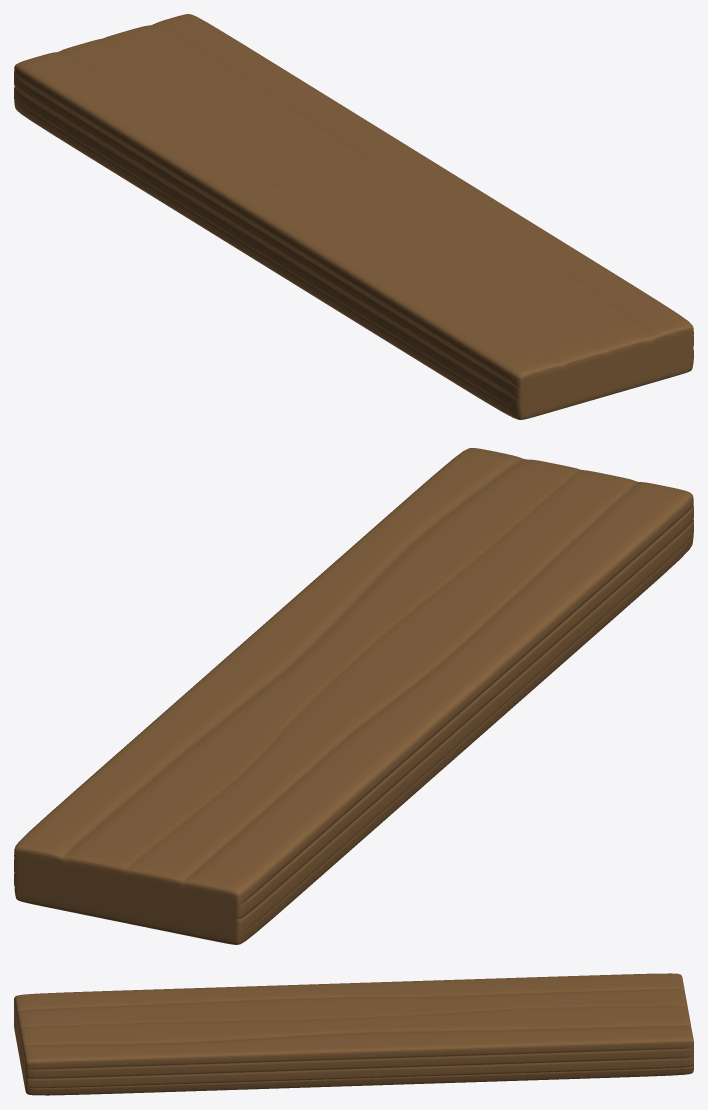
3 renders of one model, top to bottom at view 1: azimuth 30°, elevation 25°; view 2: azimuth 150°, elevation 25°; view 3: azimuth 270°, elevation 25°, orthographic. The views are drawn at different scales.
Parts seen in each view (by area): view 1: plank.001; view 2: plank.001; view 3: plank.001.
Part boxes in pixels (x1=…): plank.001: x1=14, y1=14, x2=693, y2=419; plank.001: x1=14, y1=448, x2=693, y2=944; plank.001: x1=14, y1=973, x2=693, y2=1095.
Size of the model in its own units: 1692 by 334 by 5446.
